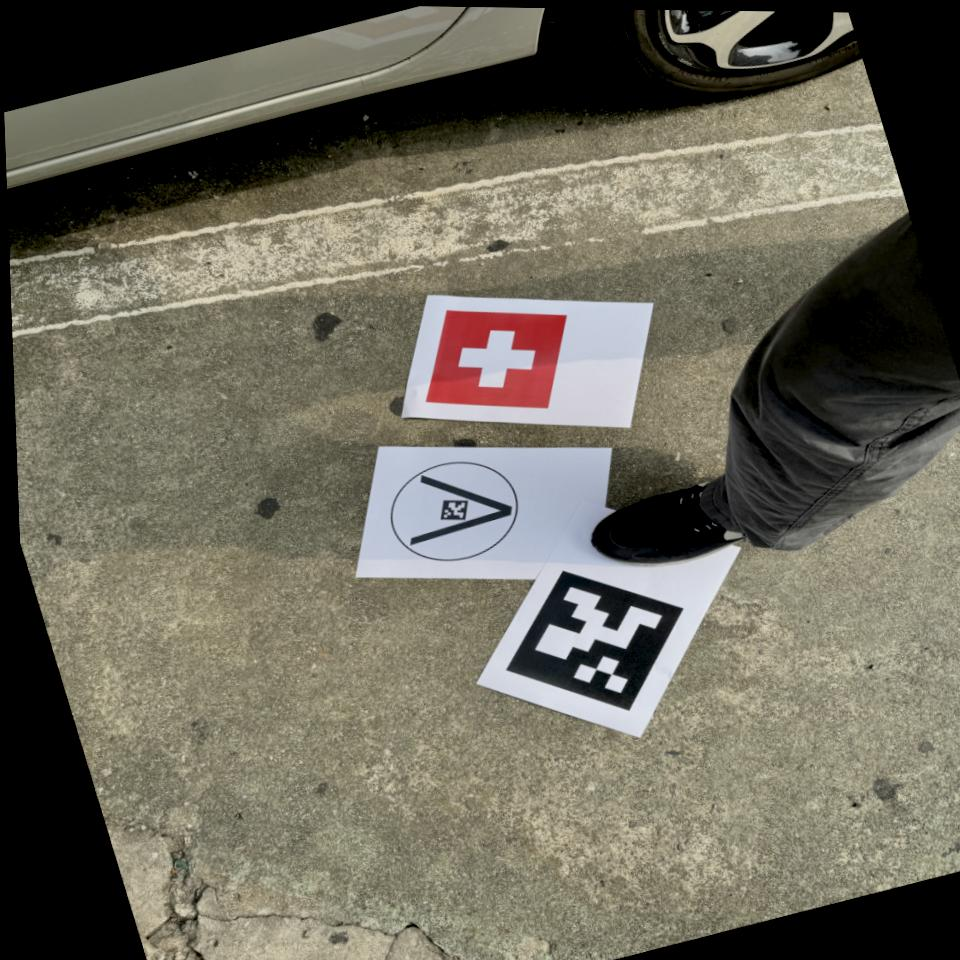ArUro mark: (497, 564, 694, 717)
rescue point: (420, 304, 572, 411)
vertiport: (369, 443, 536, 580)
